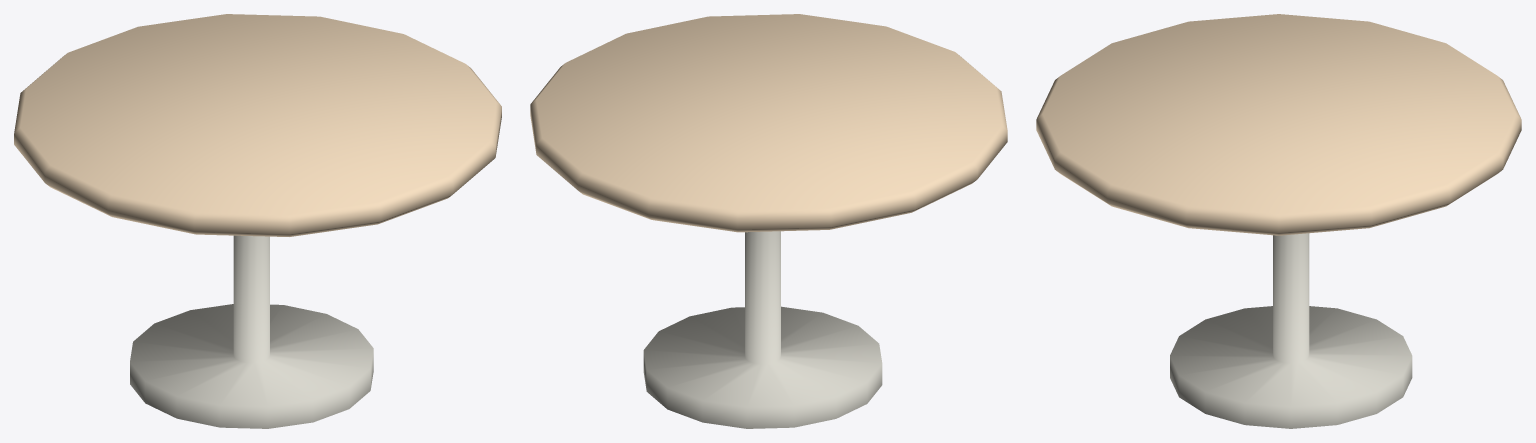
Rendered from circletable.glb.
The picture shows the model from 3 angles, left to right: view 1: azimuth 30°, elevation 25°; view 2: azimuth 150°, elevation 25°; view 3: azimuth 270°, elevation 25°; orthographic projection. The views are drawn at different scales.
Parts seen in each view (by area): view 1: Cylinder, Circle; view 2: Cylinder, Circle; view 3: Cylinder, Circle.
Boxes of the visible parts, x1,y1,x2,y2 form: Cylinder: (14,14,501,236); Circle: (130,235,373,428); Cylinder: (530,14,1007,232); Circle: (643,231,882,428); Cylinder: (1036,14,1521,235); Circle: (1170,233,1412,428).
Bounding box in the file's own units: 2 × 1.2 × 2.
